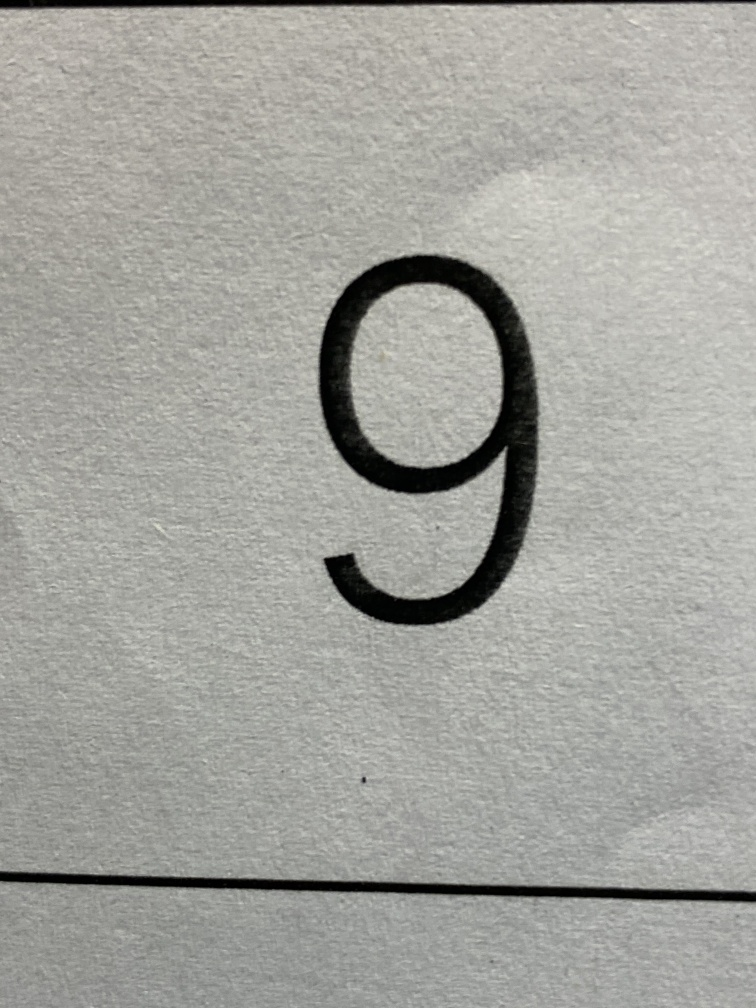nine: (250, 188, 617, 712)
